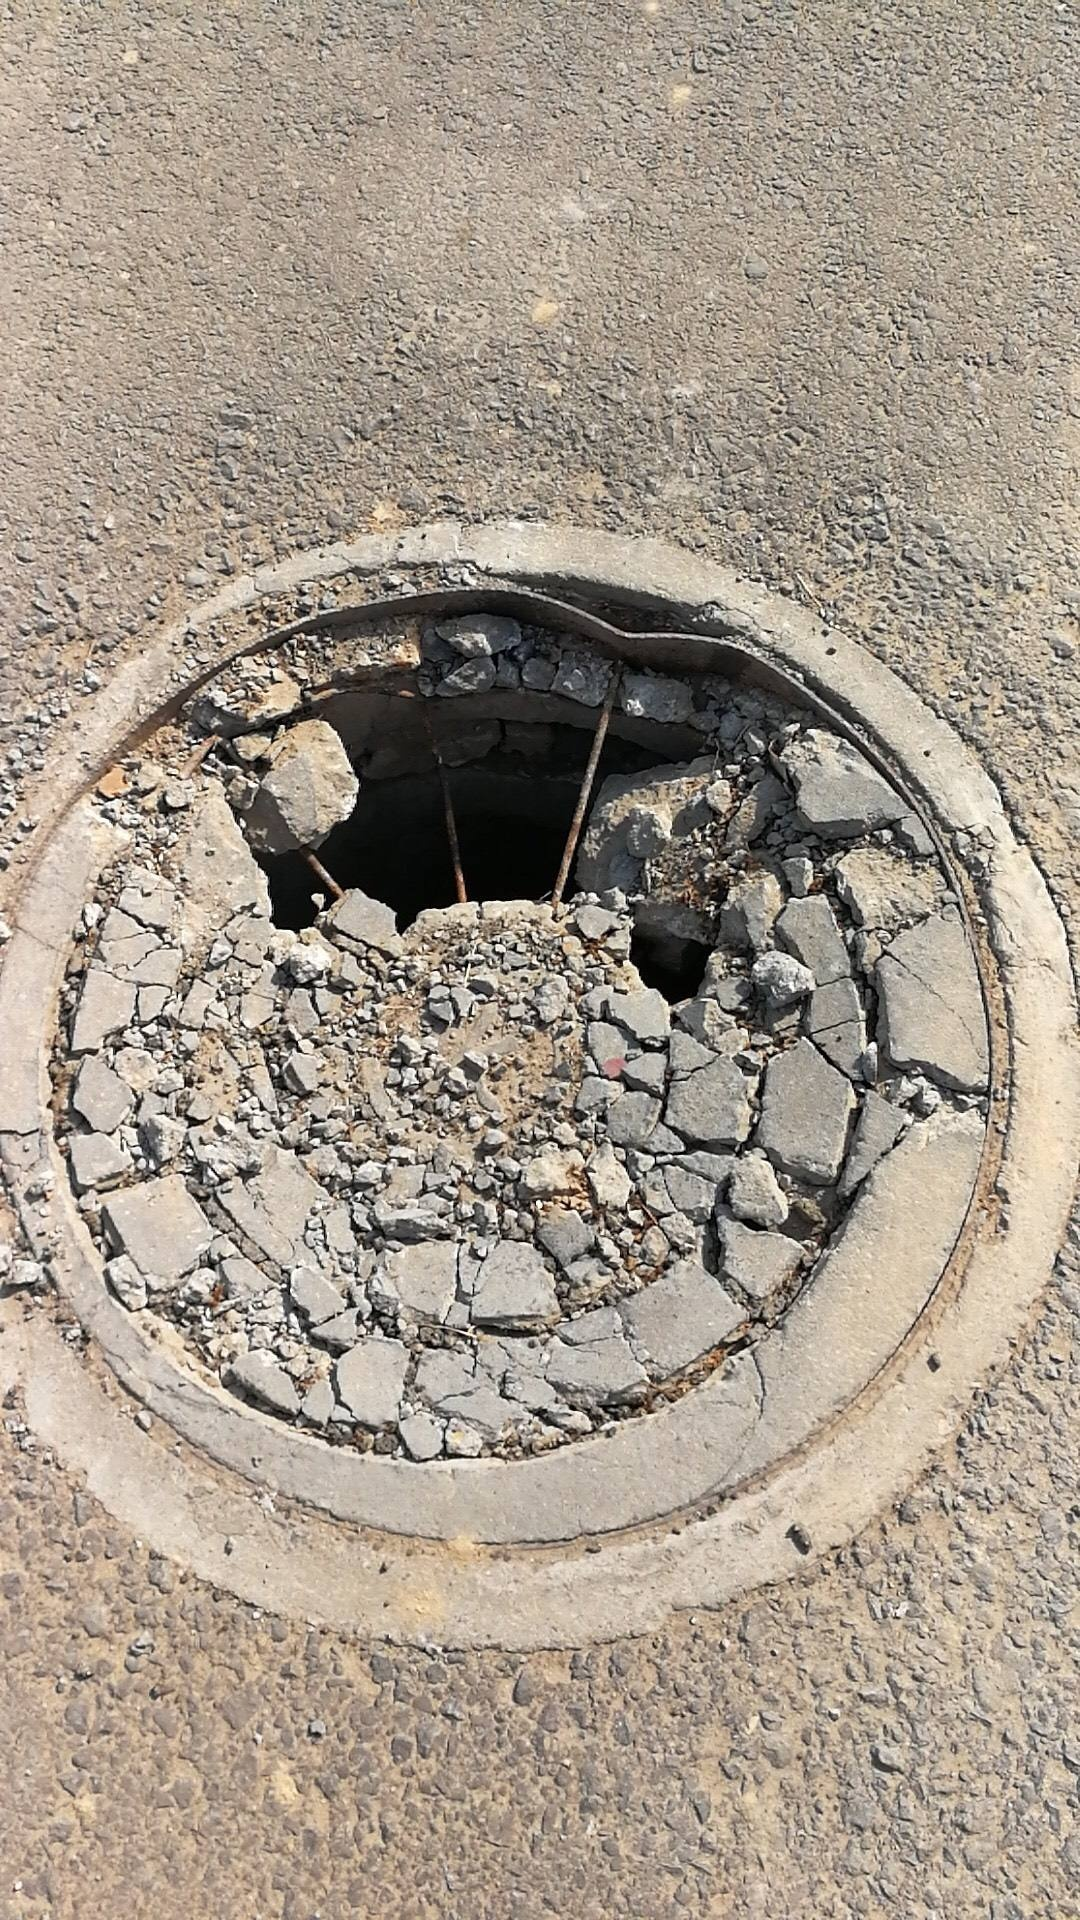broke: (3, 529, 1080, 1647)
